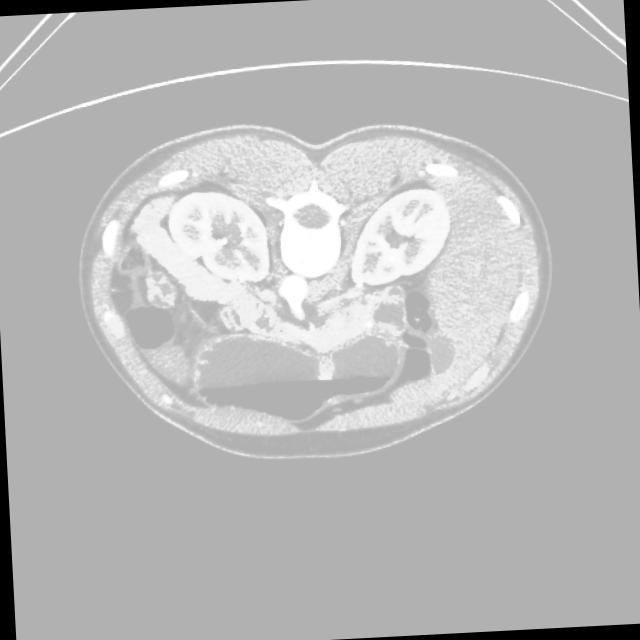NORMAL: (20, 78, 594, 489)
